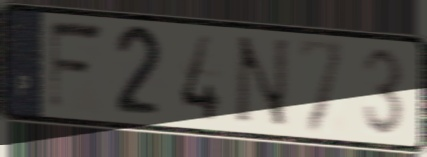2: (108, 22, 169, 122)
3: (360, 44, 407, 140)
4: (178, 31, 223, 124)
7: (297, 33, 349, 139)
F: (46, 18, 107, 116)
N: (230, 33, 292, 131)
